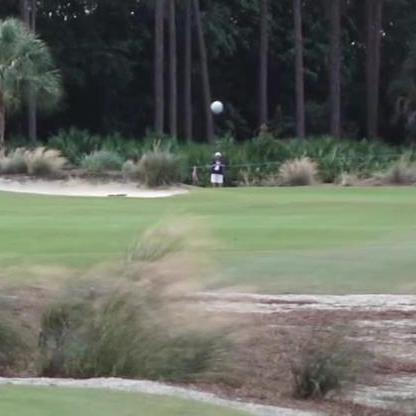golfball: (208, 99, 222, 112)
